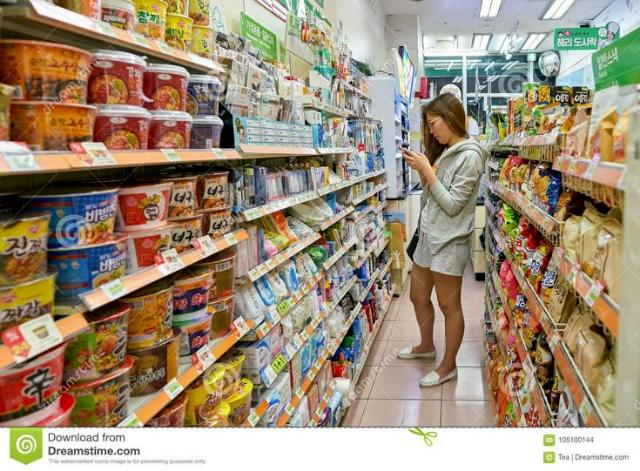background: (2, 0, 640, 428)
